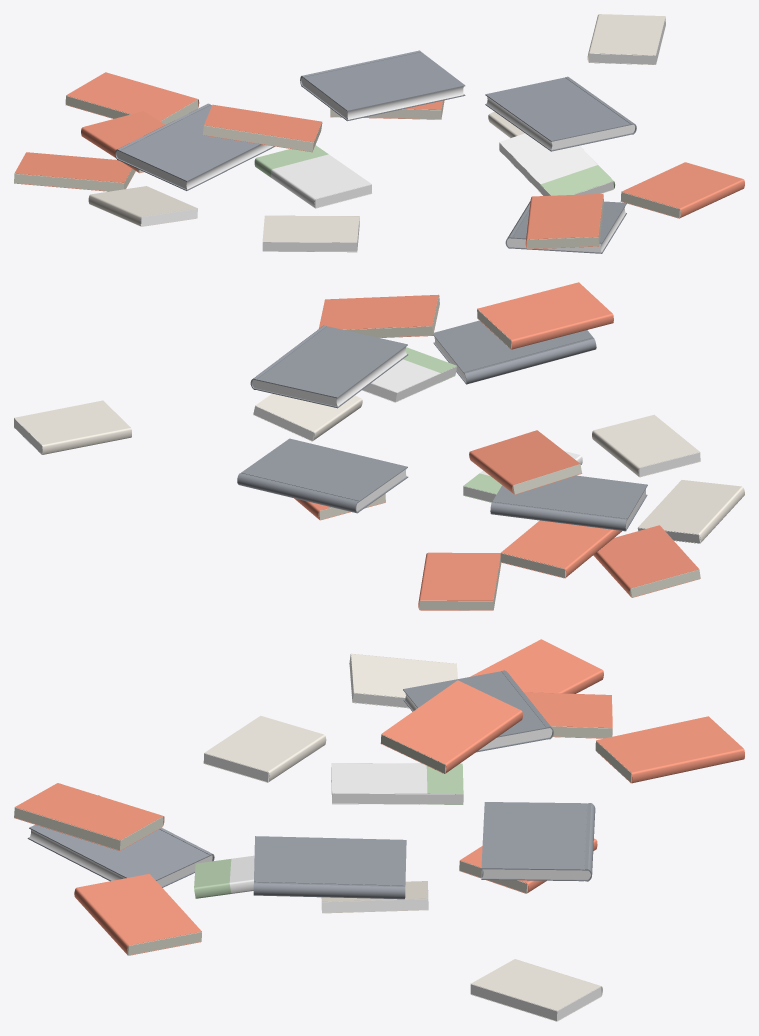
Rendered from book.fbx.
3 renders of one model, top to bottom at view 1: azimuth 30°, elevation 25°; view 2: azimuth 150°, elevation 25°; view 3: azimuth 270°, elevation 25°, orthographic. The views are drawn at different scales.
Visible parts, largest first — view 1: 137_本(閉)(ハードカバーサイズ)1, 137_本(閉)(ハードカバーサイズ)3, 137_本(閉)(ハードカバーサイズ)4, 139_本(閉)(新書サイズ)2, 139_本(閉)(新書サイズ)1, 141_本(閉)(漫画サイズ)2, 141_本(閉)(漫画サイズ)6, 141_本(閉)(漫画サイズ)5, 141_本(閉)(漫画サイズ)1, 141_本(閉)(漫画サイズ)3, 135_本(閉)(文庫サイズ)1, 135_本(閉)(文庫サイズ)4 (+5 smaller); view 2: 137_本(閉)(ハードカバーサイズ)1, 137_本(閉)(ハードカバーサイズ)3, 137_本(閉)(ハードカバーサイズ)4, 141_本(閉)(漫画サイズ)5, 137_本(閉)(ハードカバーサイズ)2, 141_本(閉)(漫画サイズ)3, 141_本(閉)(漫画サイズ)6, 141_本(閉)(漫画サイズ)2, 141_本(閉)(漫画サイズ)1, 141_本(閉)(漫画サイズ), 135_本(閉)(文庫サイズ)4, 135_本(閉)(文庫サイズ)1 (+5 smaller); view 3: 137_本(閉)(ハードカバーサイズ)3, 137_本(閉)(ハードカバーサイズ)1, 141_本(閉)(漫画サイズ)1, 141_本(閉)(漫画サイズ)2, 141_本(閉)(漫画サイズ)6, 137_本(閉)(ハードカバーサイズ)2, 141_本(閉)(漫画サイズ)5, 139_本(閉)(新書サイズ)1, 135_本(閉)(文庫サイズ)4, 135_本(閉)(文庫サイズ)1, 135_本(閉)(文庫サイズ)2, 141_本(閉)(漫画サイズ)3 (+5 smaller).
Boxes of the visible parts, box(x1,y1,x2,y2) form: 137_本(閉)(ハードカバーサイズ)1: box(300, 50, 465, 121); 137_本(閉)(ハードカバーサイズ)3: box(485, 76, 636, 151); 137_本(閉)(ハードカバーサイズ)4: box(114, 103, 274, 190); 139_本(閉)(新書サイズ)2: box(499, 133, 615, 195); 139_本(閉)(新書サイズ)1: box(254, 145, 371, 208); 141_本(閉)(漫画サイズ)2: box(620, 162, 744, 218); 141_本(閉)(漫画サイズ)6: box(65, 72, 199, 124); 141_本(閉)(漫画サイズ)5: box(525, 194, 603, 249); 141_本(閉)(漫画サイズ)1: box(202, 104, 322, 152); 141_本(閉)(漫画サイズ)3: box(14, 152, 135, 191); 135_本(閉)(文庫サイズ)1: box(262, 215, 359, 252); 135_本(閉)(文庫サイズ)4: box(587, 14, 665, 64); 137_本(閉)(ハードカバーサイズ)1: box(237, 438, 408, 513); 137_本(閉)(ハードカバーサイズ)3: box(250, 325, 408, 408); 137_本(閉)(ハードカバーサイズ)4: box(490, 475, 647, 531); 141_本(閉)(漫画サイズ)5: box(477, 282, 613, 349); 137_本(閉)(ハードカバーサイズ)2: box(433, 320, 596, 384); 141_本(閉)(漫画サイズ)3: box(593, 525, 700, 597); 141_本(閉)(漫画サイズ)6: box(418, 552, 501, 610); 141_本(閉)(漫画サイズ)2: box(318, 294, 439, 337); 141_本(閉)(漫画サイズ)1: box(469, 430, 582, 494); 141_本(閉)(漫画サイズ): box(500, 520, 621, 578); 135_本(閉)(文庫サイズ)4: box(14, 400, 131, 454); 135_本(閉)(文庫サイズ)1: box(592, 414, 700, 477); 137_本(閉)(ハードカバーサイズ)3: box(253, 836, 406, 899); 137_本(閉)(ハードカバーサイズ)1: box(481, 802, 595, 881); 141_本(閉)(漫画サイズ)1: box(380, 680, 522, 773); 141_本(閉)(漫画サイズ)2: box(74, 874, 201, 955); 141_本(閉)(漫画サイズ)6: box(595, 716, 744, 783); 137_本(閉)(ハードカバーサイズ)2: box(27, 795, 214, 887); 141_本(閉)(漫画サイズ)5: box(14, 783, 164, 850); 139_本(閉)(新書サイズ)1: box(331, 763, 463, 804); 135_本(閉)(文庫サイズ)4: box(470, 959, 602, 1021); 135_本(閉)(文庫サイズ)1: box(203, 715, 326, 782); 135_本(閉)(文庫サイズ)2: box(349, 653, 457, 708); 141_本(閉)(漫画サイズ)3: box(470, 639, 603, 693).
Bounding box in the file's own units: 119 × 9.84 × 101.
